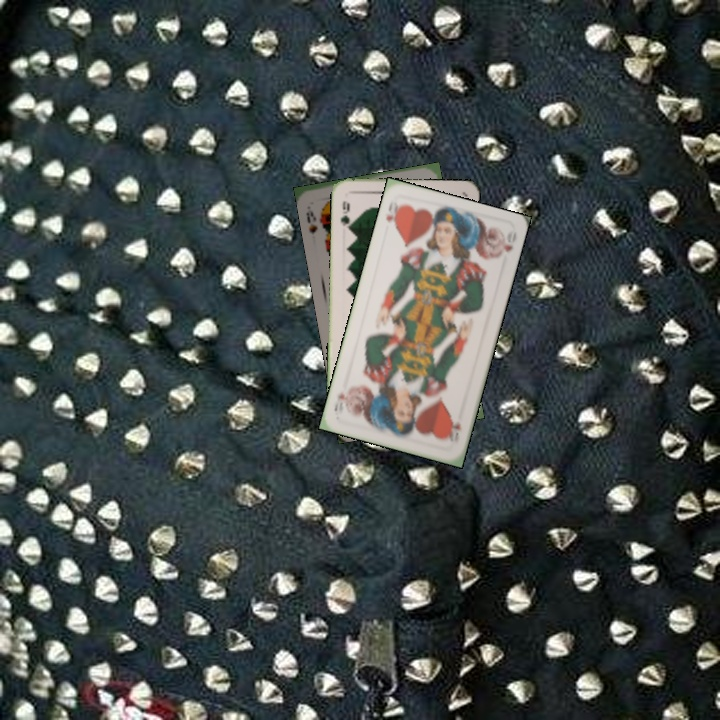G9: (336, 197, 353, 233)
HO: (382, 197, 404, 231), (445, 417, 464, 447)
S8: (302, 202, 320, 237)
